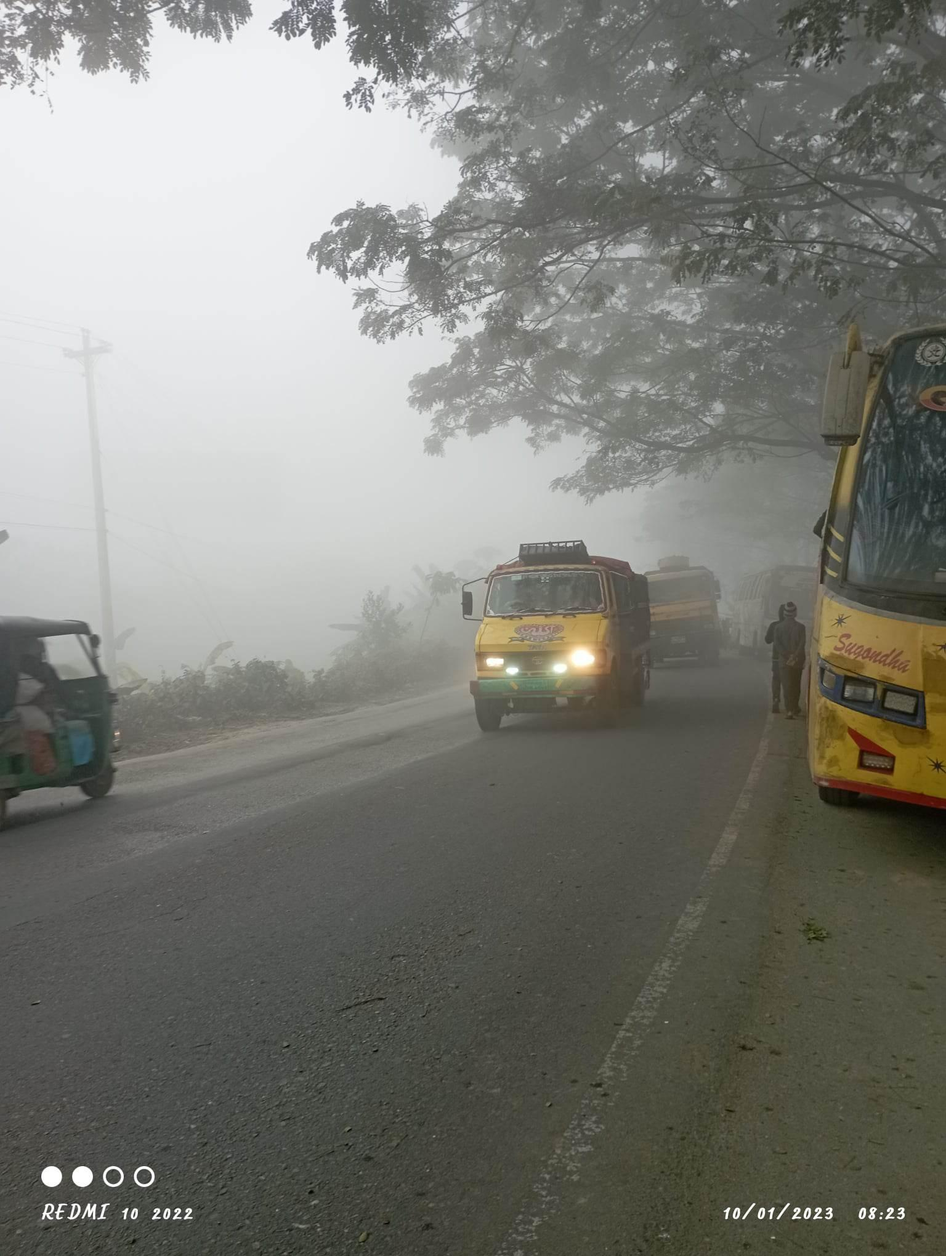Bus: (823, 299, 946, 855), (738, 542, 821, 683)
Truck: (453, 531, 663, 742), (639, 553, 729, 682)
